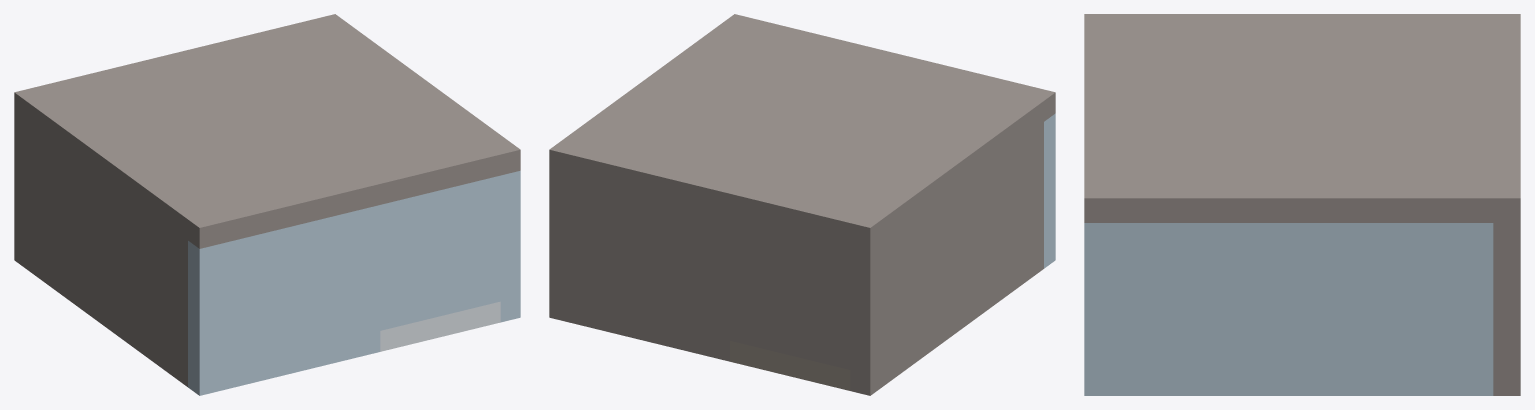
Rendered from ice-gate.glb.
3 views of the same model, side by side, from view 1: azimuth 30°, elevation 25°; view 2: azimuth 150°, elevation 25°; view 3: azimuth 270°, elevation 25° (orthographic). The views are drawn at different scales.
Visible parts, largest first — view 1: rock_10, rock_1, plug_ice_south, ice-rock_9, ice-rock_7, ice-rock_8, ice-rock_6, ice-rock_4, ice-rock_5, snow_9; view 2: rock_10, rock_1, rock_2, plug_north, cave-floor_1, ice-rock_9; view 3: rock_10, ice-rock_4, ice-rock_1, rock_2.
Boxes of the visible parts, x1,y1,x2,y2 form: rock_10: (14, 14, 520, 248); rock_1: (14, 113, 187, 386); plug_ice_south: (380, 175, 500, 330); ice-rock_9: (188, 239, 239, 395); ice-rock_7: (340, 205, 380, 361); ice-rock_8: (239, 229, 279, 385); ice-rock_6: (280, 219, 319, 376); ice-rock_4: (500, 170, 520, 322); ice-rock_5: (320, 215, 339, 366); snow_9: (380, 301, 500, 351); rock_10: (549, 14, 1055, 248); rock_1: (850, 122, 1043, 395); rock_2: (549, 170, 729, 361); plug_north: (730, 215, 850, 369); cave-floor_1: (730, 341, 850, 390); ice-rock_9: (1044, 113, 1055, 268); rock_10: (1084, 14, 1520, 222); ice-rock_4: (1084, 223, 1329, 395); ice-rock_1: (1329, 223, 1493, 395); rock_2: (1493, 223, 1520, 395).
Size of the model in its own units: 8 by 4 by 8.
